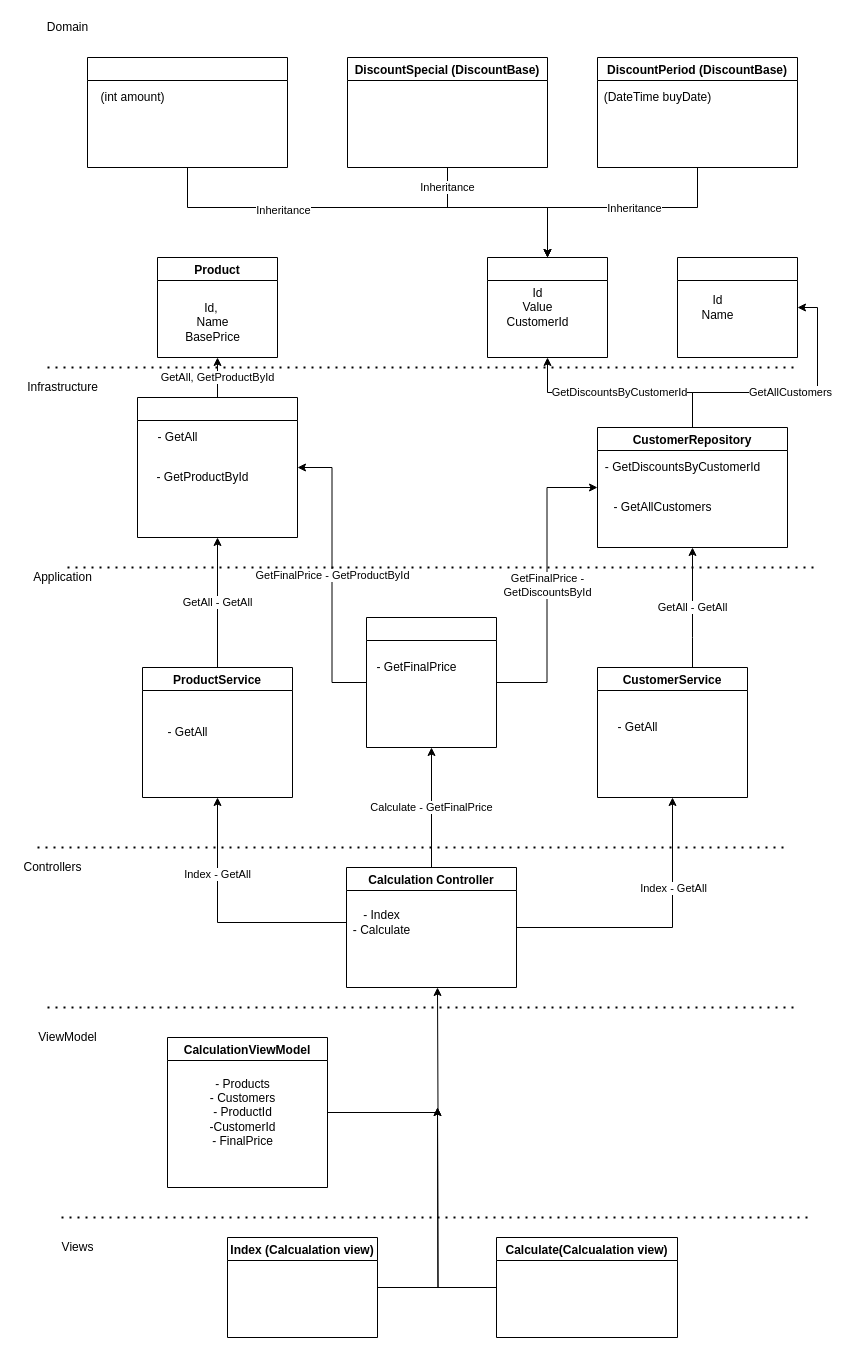
Some shapes in this 849 by 1355 pixel diagram are drawn without their labels. The box of each missing label's shape, as (x1, y1, x2, y2) in pixels:
CalculationService: (366, 616, 496, 748)
Customer: (676, 256, 798, 358)
DiscountBase: (486, 256, 608, 358)
DiscountVolume (DiscountBase): (86, 56, 288, 168)
ProductRepository: (136, 396, 298, 538)
